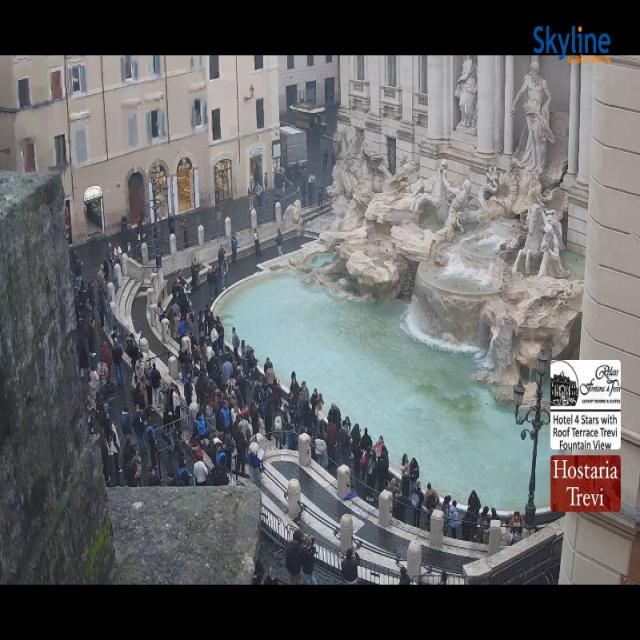person: (284, 392, 327, 447), (264, 375, 304, 434), (180, 311, 206, 385), (476, 506, 523, 544), (287, 393, 315, 451), (91, 410, 111, 485), (230, 340, 252, 408), (274, 380, 295, 448), (190, 410, 216, 461), (192, 399, 215, 454), (289, 390, 316, 435), (225, 350, 241, 424), (165, 383, 186, 439), (266, 379, 288, 431), (248, 346, 266, 409), (105, 415, 122, 478), (228, 355, 242, 427), (175, 311, 196, 357), (73, 280, 94, 325), (309, 389, 328, 437), (84, 395, 108, 432), (190, 310, 210, 354), (74, 280, 94, 324), (286, 530, 302, 584), (165, 384, 181, 437), (233, 419, 248, 474), (89, 351, 109, 392), (248, 169, 268, 209), (164, 403, 180, 451), (179, 279, 194, 330), (185, 311, 199, 365), (204, 380, 217, 437), (165, 383, 181, 429), (273, 163, 291, 203), (78, 279, 95, 321), (94, 395, 111, 437), (302, 537, 317, 584), (501, 512, 523, 544), (394, 483, 412, 522), (124, 444, 141, 485), (424, 483, 438, 531), (204, 328, 217, 378), (364, 448, 376, 502), (304, 389, 323, 423), (121, 408, 131, 472), (273, 164, 285, 217), (341, 549, 359, 584), (79, 280, 95, 319), (165, 383, 181, 421), (268, 376, 283, 416), (136, 415, 149, 461), (180, 437, 203, 463), (234, 363, 247, 409), (302, 390, 318, 427), (192, 336, 203, 389), (278, 165, 296, 196), (289, 388, 304, 425), (411, 482, 423, 528), (147, 424, 159, 469), (69, 246, 83, 284), (264, 386, 274, 439), (338, 420, 350, 464), (376, 448, 388, 492), (125, 333, 140, 368), (424, 483, 439, 518), (351, 424, 361, 476), (84, 395, 98, 432), (112, 338, 123, 384), (77, 340, 89, 382), (326, 423, 337, 468), (475, 506, 490, 539), (147, 423, 158, 468), (315, 401, 328, 439), (186, 312, 199, 349), (239, 408, 252, 445), (508, 511, 523, 543), (167, 463, 187, 487), (274, 406, 285, 449), (360, 439, 371, 482), (151, 363, 161, 410), (272, 163, 284, 202), (461, 510, 476, 541), (273, 163, 284, 205), (224, 429, 235, 471), (296, 391, 307, 432), (144, 362, 153, 412), (193, 411, 209, 439), (85, 310, 95, 354), (74, 285, 85, 325), (187, 311, 197, 355), (176, 458, 191, 487), (132, 405, 144, 441), (178, 284, 190, 319), (171, 285, 180, 330), (401, 453, 410, 497), (248, 400, 259, 436), (288, 391, 299, 427), (172, 270, 187, 296), (280, 166, 293, 196), (134, 382, 147, 412), (449, 500, 459, 538), (386, 473, 401, 498), (409, 458, 419, 495), (84, 395, 97, 423), (194, 457, 207, 485), (88, 368, 99, 401), (442, 495, 451, 535), (101, 342, 111, 378), (197, 310, 206, 349), (216, 317, 225, 356), (214, 438, 226, 467), (220, 399, 231, 430), (97, 357, 108, 388), (125, 464, 139, 488), (104, 244, 113, 281), (274, 164, 283, 201), (316, 438, 327, 468), (468, 490, 481, 515), (96, 265, 106, 297), (121, 406, 131, 438), (508, 511, 523, 532), (385, 477, 400, 498), (295, 168, 307, 194), (253, 556, 264, 584), (480, 515, 491, 543), (328, 404, 341, 427), (208, 268, 217, 301), (240, 340, 248, 377), (214, 464, 228, 485), (310, 389, 323, 411), (264, 358, 275, 384), (135, 353, 144, 384), (477, 505, 492, 523), (73, 257, 83, 284), (360, 428, 372, 450), (205, 309, 215, 335), (184, 373, 192, 405), (99, 295, 107, 327), (148, 468, 161, 487), (308, 171, 315, 205), (212, 263, 219, 297), (99, 262, 109, 285), (501, 526, 513, 545), (290, 372, 299, 397), (192, 258, 199, 290), (190, 259, 197, 291), (220, 258, 227, 290), (138, 210, 145, 241), (231, 233, 238, 264), (232, 328, 239, 359), (300, 380, 309, 404), (248, 179, 255, 209), (180, 219, 187, 249), (300, 177, 307, 207), (509, 511, 522, 527), (264, 568, 277, 584), (254, 229, 261, 257), (276, 228, 283, 256), (256, 180, 263, 208), (399, 568, 411, 584), (375, 436, 384, 457), (154, 227, 160, 257), (224, 255, 230, 285), (252, 166, 261, 185), (293, 157, 300, 181), (218, 245, 225, 269), (317, 180, 323, 207), (178, 318, 186, 338), (114, 244, 122, 264), (172, 278, 179, 298), (168, 216, 175, 236), (177, 270, 185, 287), (264, 172, 268, 203), (438, 571, 447, 584), (491, 508, 500, 521), (480, 506, 488, 518), (323, 150, 327, 171), (345, 417, 351, 431), (332, 149, 335, 167)
